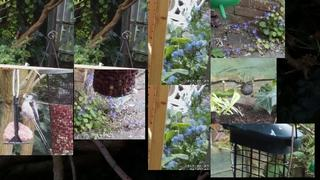long tailed tit: (19, 93, 49, 149)
sparrow: (237, 82, 253, 97)
